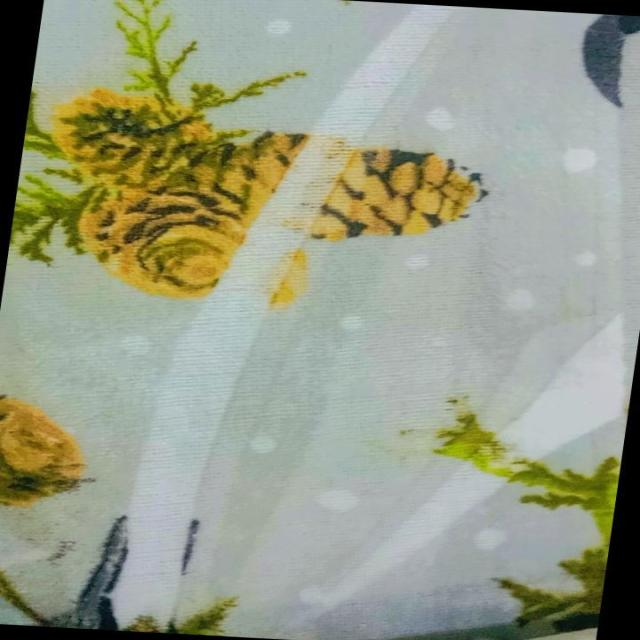selvet: (103, 247, 293, 630), (239, 0, 448, 258), (490, 306, 640, 490), (321, 452, 480, 622)
